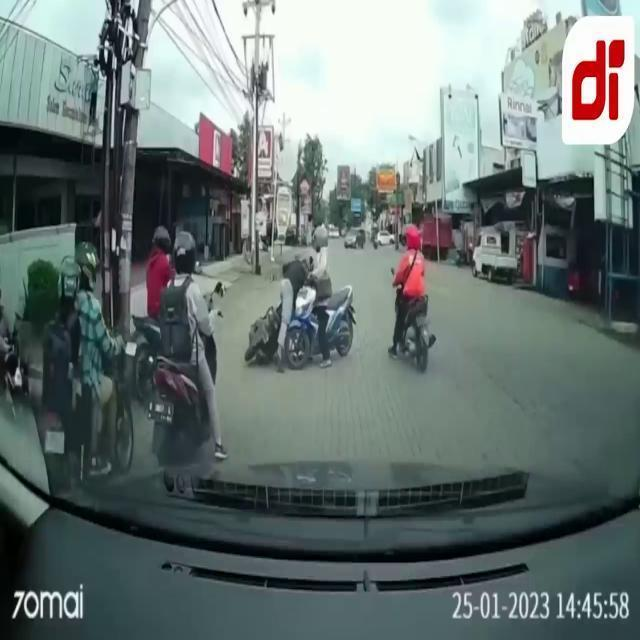accident: (245, 223, 355, 363)
non-accident: (0, 228, 224, 477)
